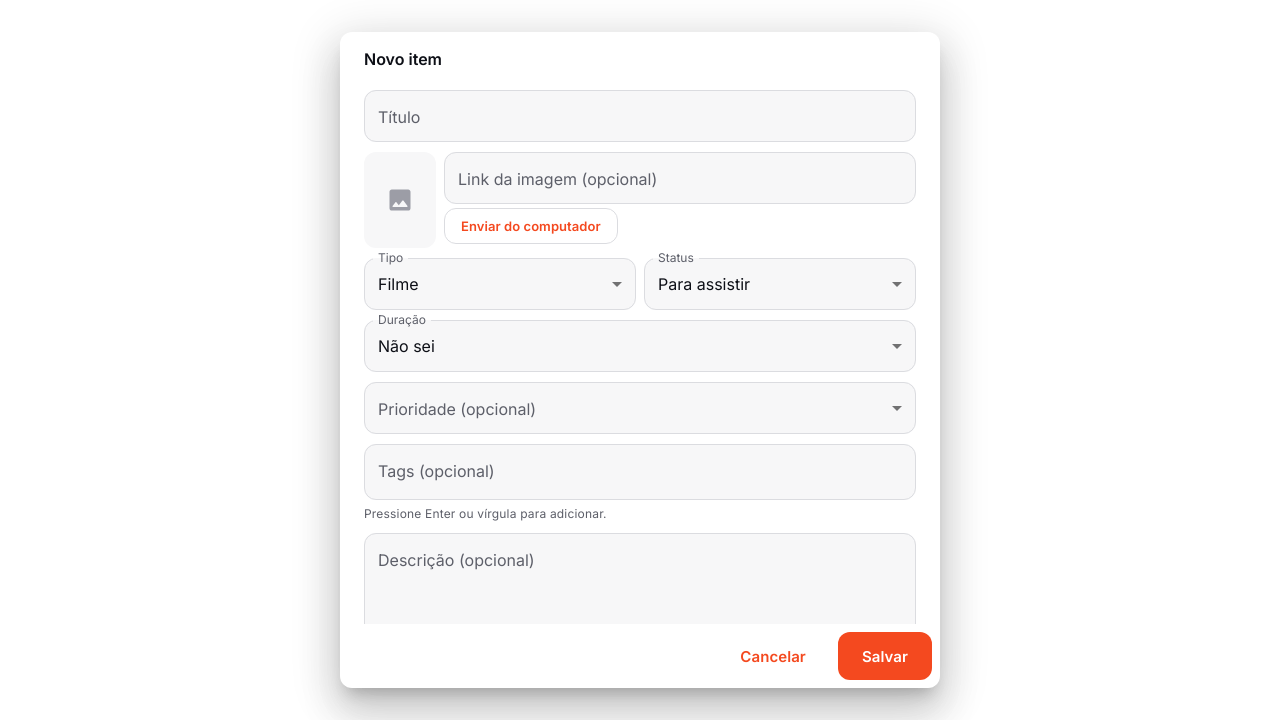
Scenario: LeisureItemDialog › offers the estimatedDuration field only when duration is fixed
Expected: the field labelled "Duração (min)" is not shown
Click the dropdown named "Duração". click: coordinates (406, 346)
box: [378, 336, 435, 356]
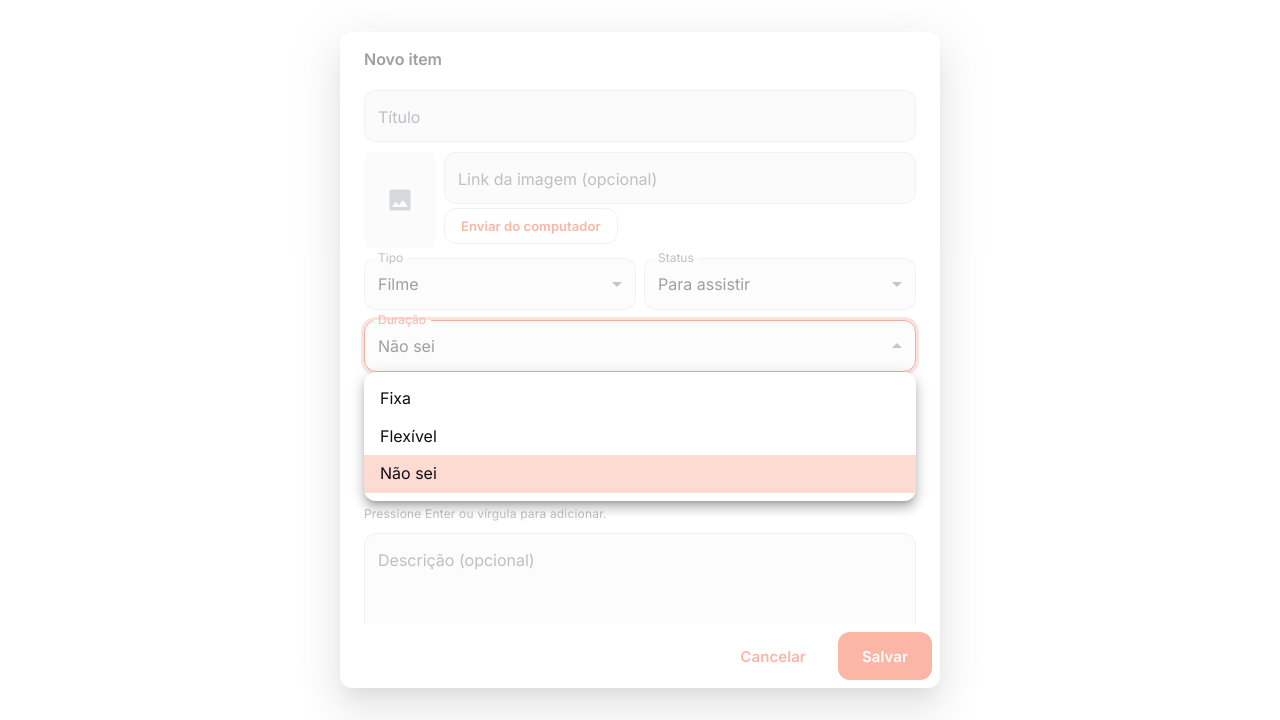
Click the option "Fixa". click: coordinates (396, 398)
box: [380, 388, 411, 408]
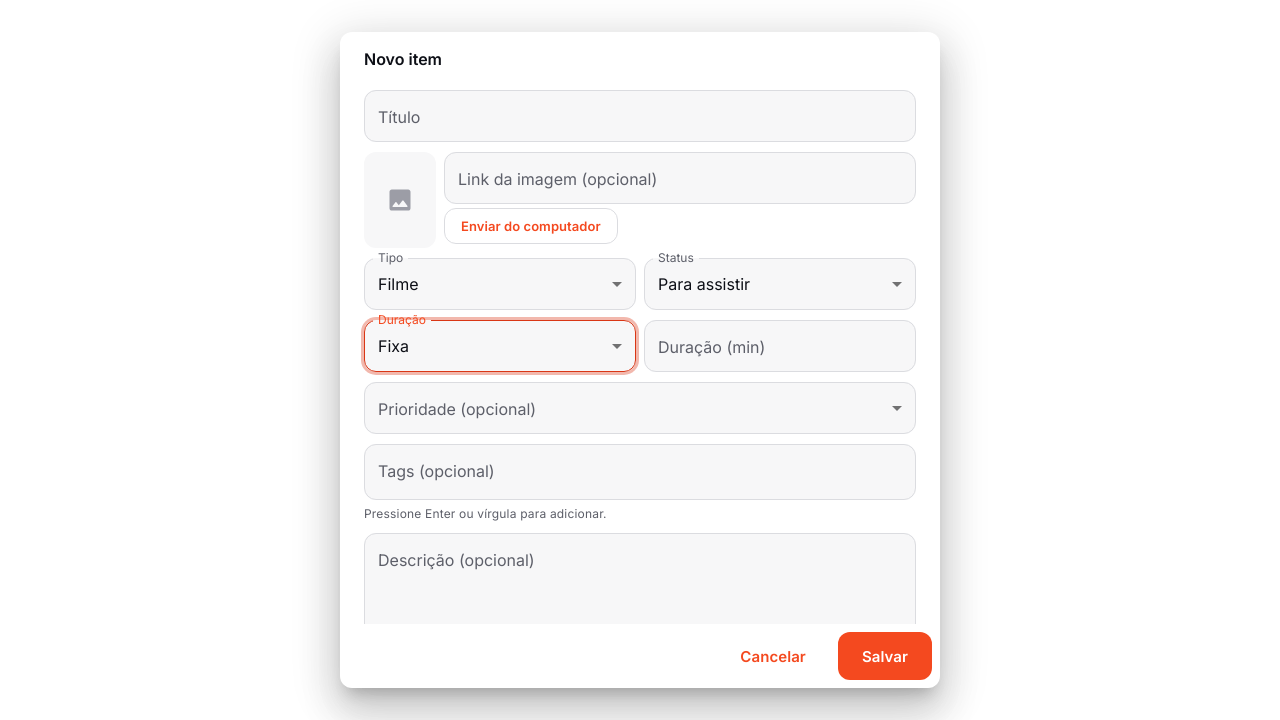
Expected: the number field labelled "Duração (min)" is shown, [644, 321, 916, 372]
